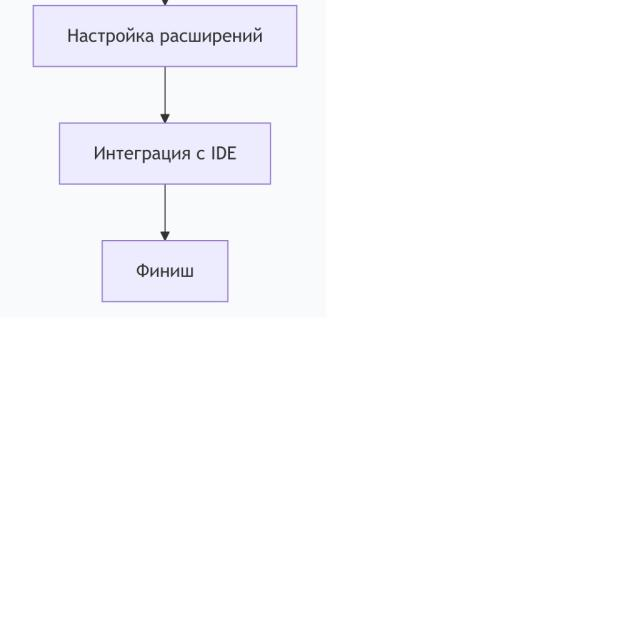arrow: (152, 183, 180, 241), (156, 68, 175, 121)
rectangle: (33, 4, 297, 66), (59, 123, 271, 184), (102, 240, 228, 302)
